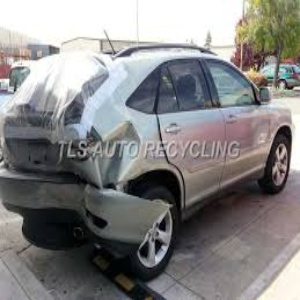bumper: (48, 180, 170, 259)
